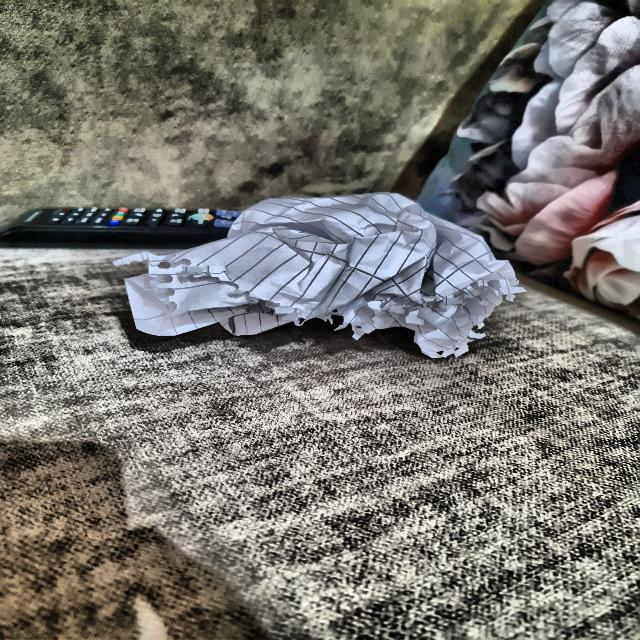Paper: (123, 197, 522, 345)
